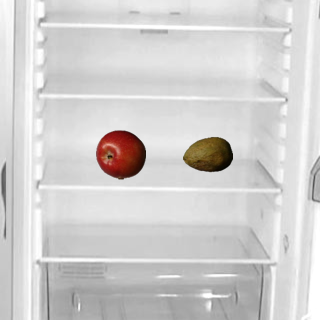Apple Braeburn: (95, 129, 145, 179)
Papaya: (182, 129, 232, 179)
